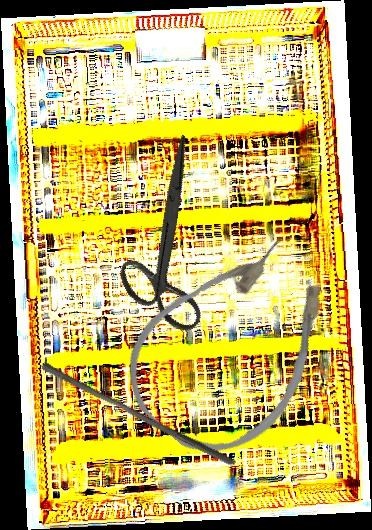Cannula: (102, 209, 368, 482)
Iris Scissors: (76, 134, 262, 348)
Pusher: (36, 360, 241, 468)
